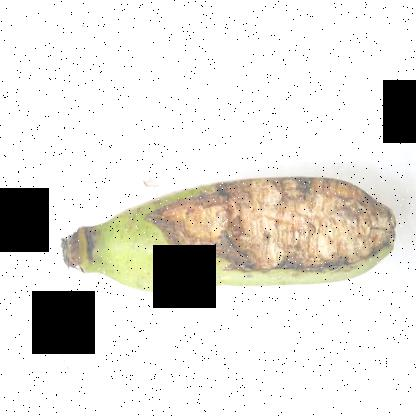rotten: (138, 157, 397, 276)
